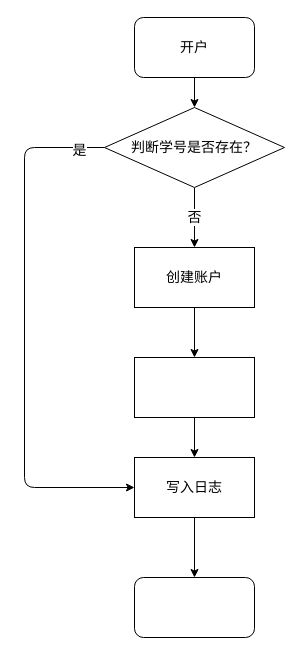
The diagram is 302 pixels wide and 655 high, and some of its shapes have lost their labels. The shapes that lost their labels are listed below. From the top down, each one's box as (x1, y1, x2, y2) in pixels, then its label:
(134, 356, 254, 418): 将账户纳入管理
(134, 576, 254, 638): 结束
